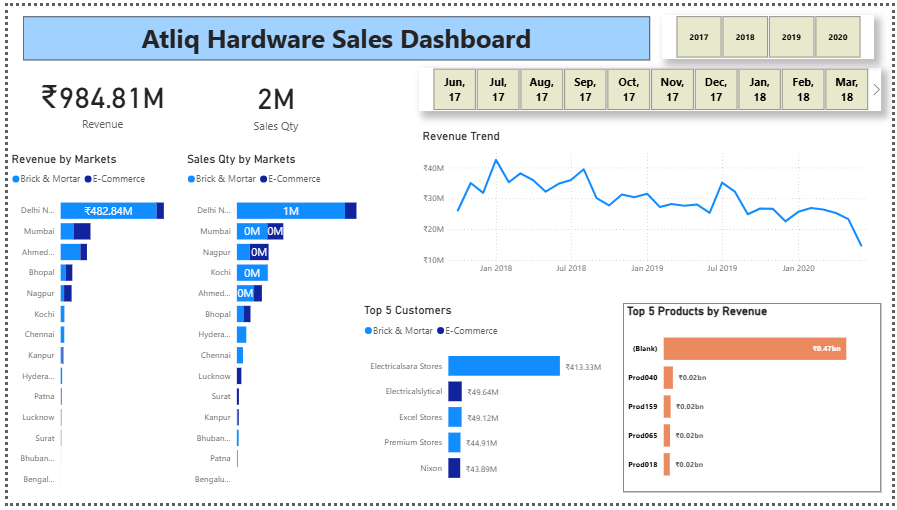

What the dashboard file says about the page in this screenshot:
{"tool":"powerbi","page":{"name":"Key Insights","canvas":[1280,720],"ordinal":0},"visuals":[{"type":"card","fields":{"Values":["basemeasures.Revenue"]},"box":[8.2,0,244.9,177.6],"z":0},{"type":"card","fields":{"Values":["basemeasures.Sales Qty"]},"box":[253.1,0,220.4,177.6],"z":1000},{"type":"barChart","title":"Revenue by Markets","fields":{"Category":["sales markets.markets_name"],"Series":["sales customers.customer_type"],"Y":["basemeasures.Revenue"]},"box":[0,181.6,253.1,532.7],"z":2000},{"type":"barChart","title":"Sales Qty by Markets","fields":{"Category":["sales markets.markets_name"],"Series":["sales customers.customer_type"],"Y":["basemeasures.Sales Qty"]},"box":[253.1,181.6,257.1,532.7],"z":3000},{"type":"slicer","fields":{"Values":["sales date.year"]},"box":[467.3,0,289.8,51],"z":4000},{"type":"slicer","fields":{"Values":["sales date.cy_date"]},"box":[777.7,0,502.3,50.6],"z":5000},{"type":"barChart","title":"Top 5 Customers","fields":{"Category":["sales customers.custmer_name"],"Series":["sales customers.customer_type"],"Y":["basemeasures.Revenue"]},"box":[506.1,463.3,391.8,246.9],"z":6000},{"type":"lineChart","title":"Revenue Trend","fields":{"Category":["sales date.cy_date"],"Y":["basemeasures.Revenue"]},"box":[612.2,104.1,667.3,314.3],"z":7000},{"type":"barChart","title":"Top 5 Products by Revenue","fields":{"Category":["sales products.product_code"],"Y":["basemeasures.Revenue"]},"box":[895.9,459.2,363.3,240.8],"z":8000}]}

Visuals, with their boxes in screenshot pixels (x1, y1, x2, y2), scaled from the page's 1280x720 canvas onto the 897x510 screenshot:
card - basemeasures.Revenue: 6:0:177:126
card - basemeasures.Sales Qty: 177:0:332:126
"Revenue by Markets" barChart: 0:129:177:506
"Sales Qty by Markets" barChart: 177:129:358:506
slicer - sales date.year: 327:0:531:36
slicer - sales date.cy_date: 545:0:896:36
"Top 5 Customers" barChart: 355:328:629:503
"Revenue Trend" lineChart: 429:74:896:296
"Top 5 Products by Revenue" barChart: 628:325:882:496
